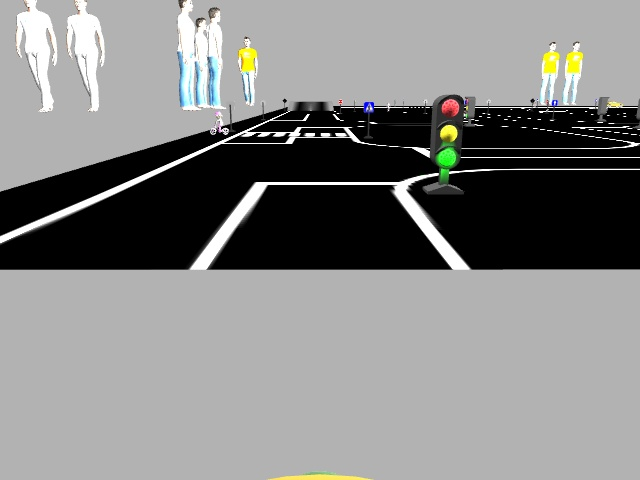Crosswalk: (364, 101, 373, 112)
Pedestrian: (209, 110, 228, 134)
TrafficLight: (430, 96, 462, 168)
